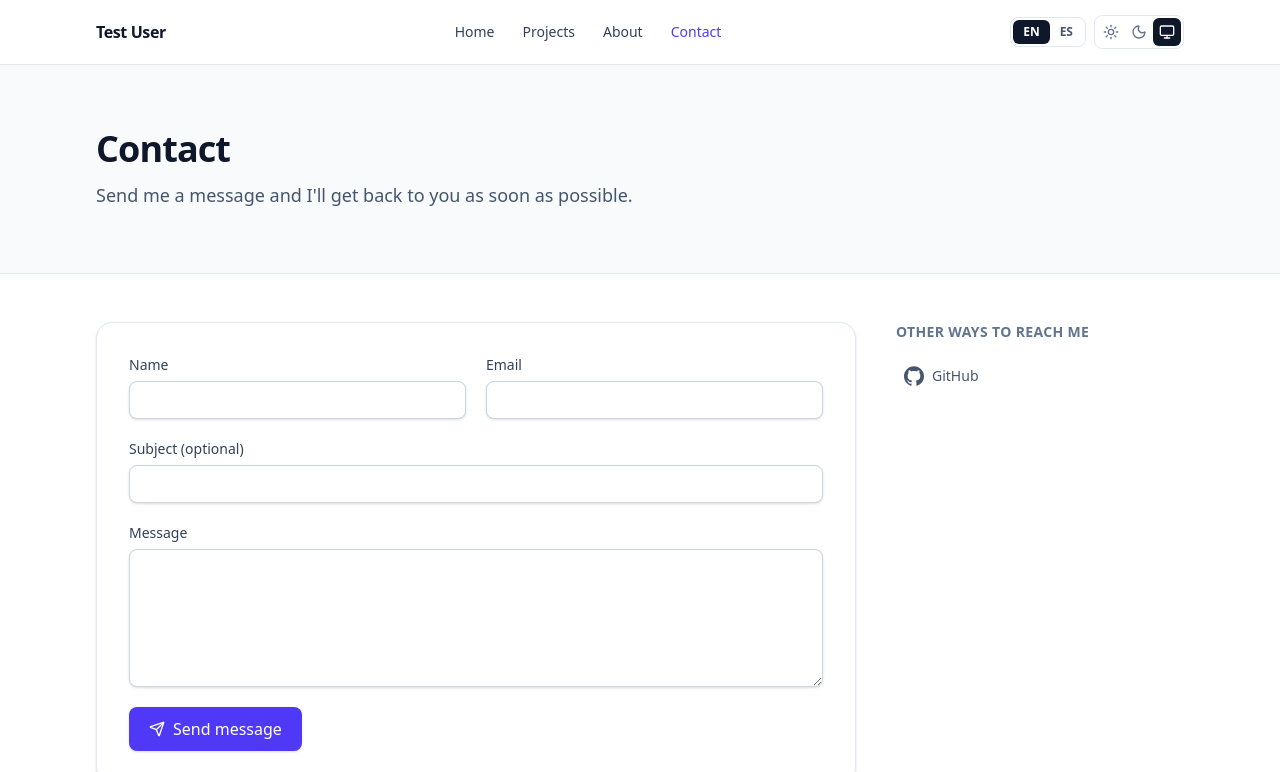
Scenario: ContactForm › explains when the rate limit is reached
Expected: the button "Send message" is shown, [129, 707, 302, 751]
Step 1. Type "Ana" into the field labelled "Name" → (298, 400), box [129, 381, 466, 419]
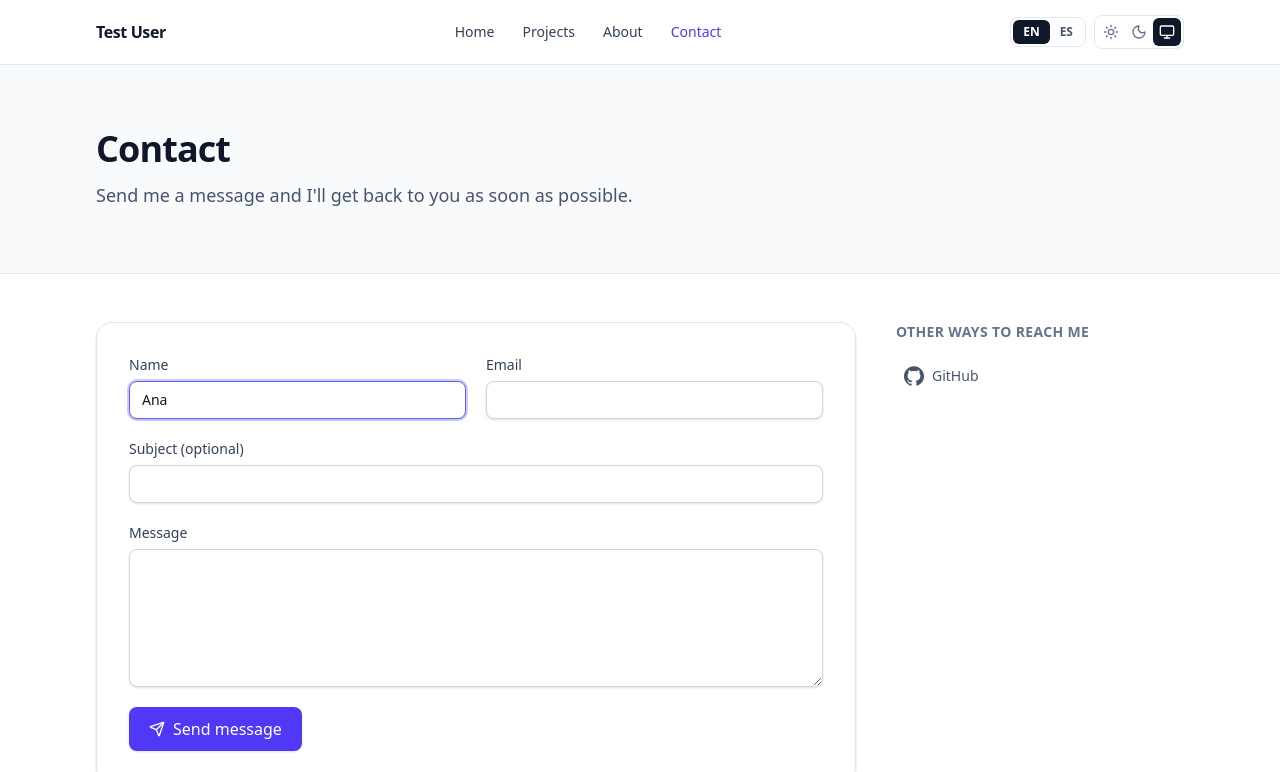
Step 2. Type "ana@example.com" into the field labelled "Email" → (654, 400), box [486, 381, 823, 419]
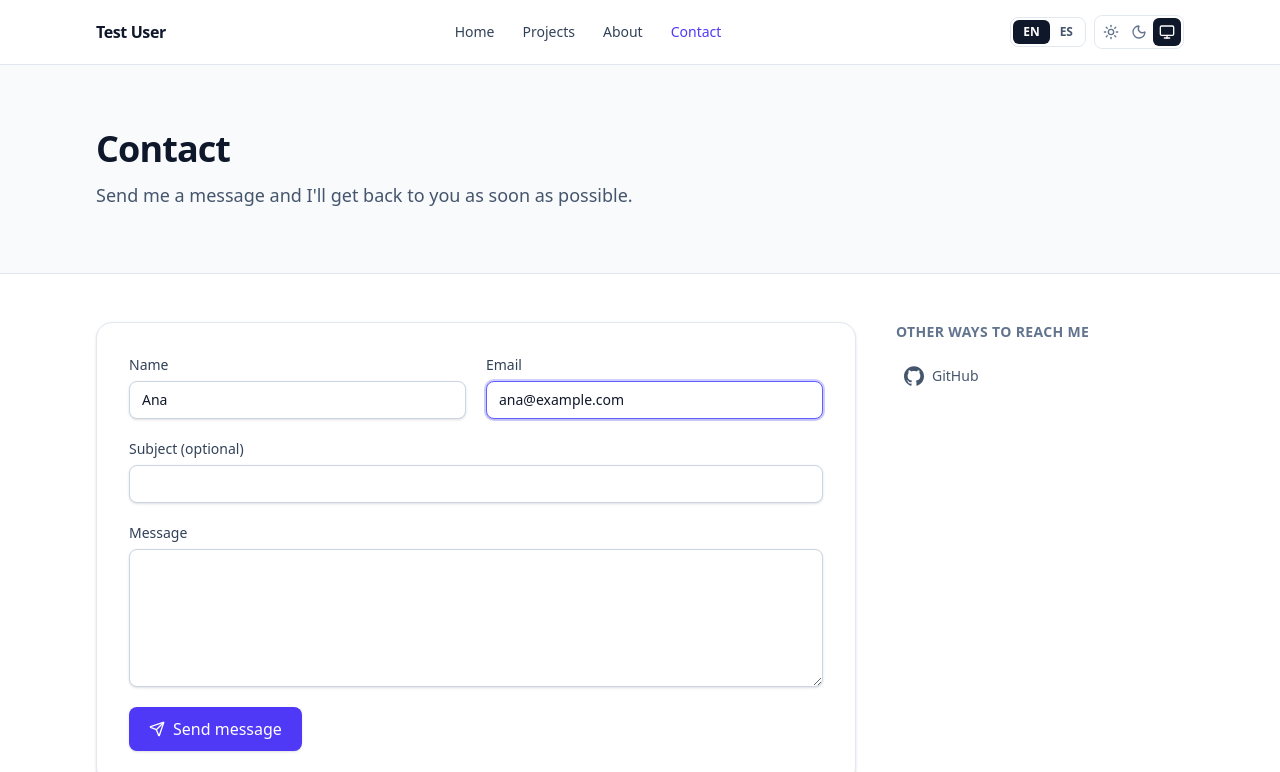
Step 3. Type "I would like to talk about a project." into the text box labelled "Message" → (476, 618), box [129, 549, 823, 687]
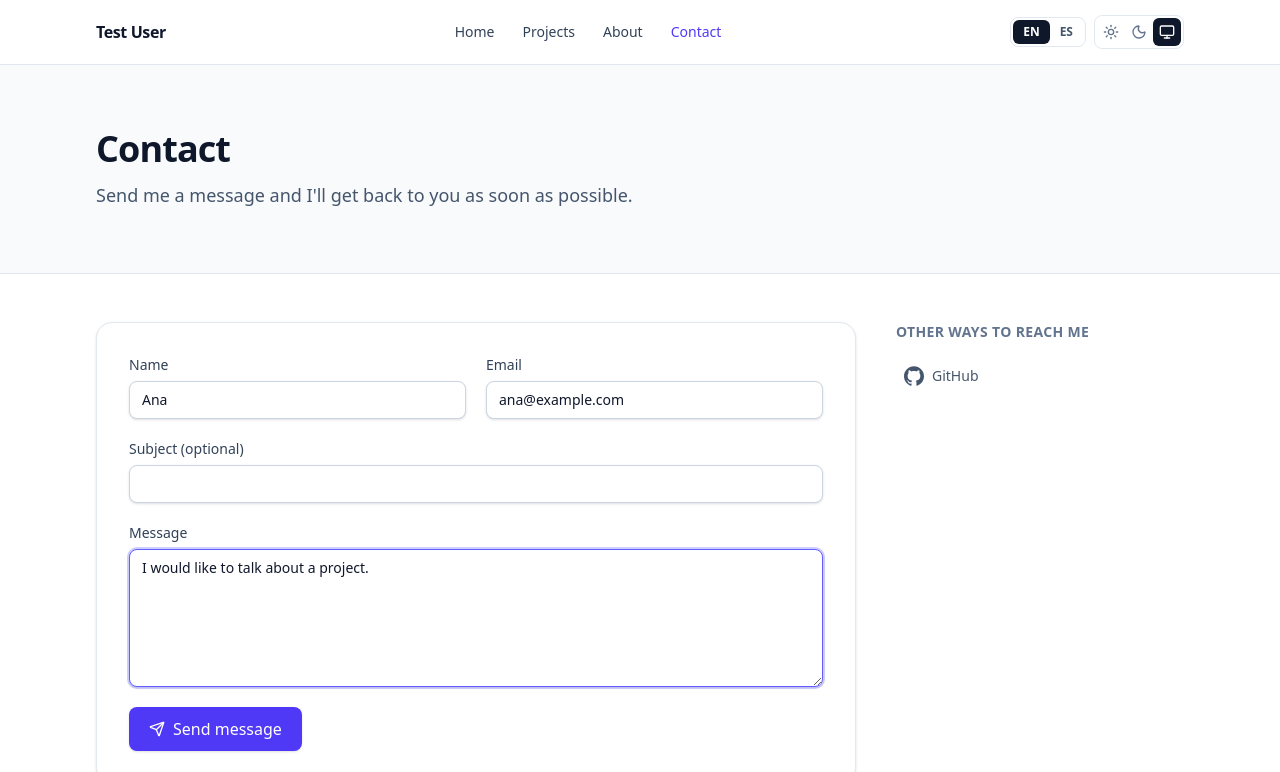
Step 4. Click the button "Send message" → (215, 729), box [129, 707, 302, 751]
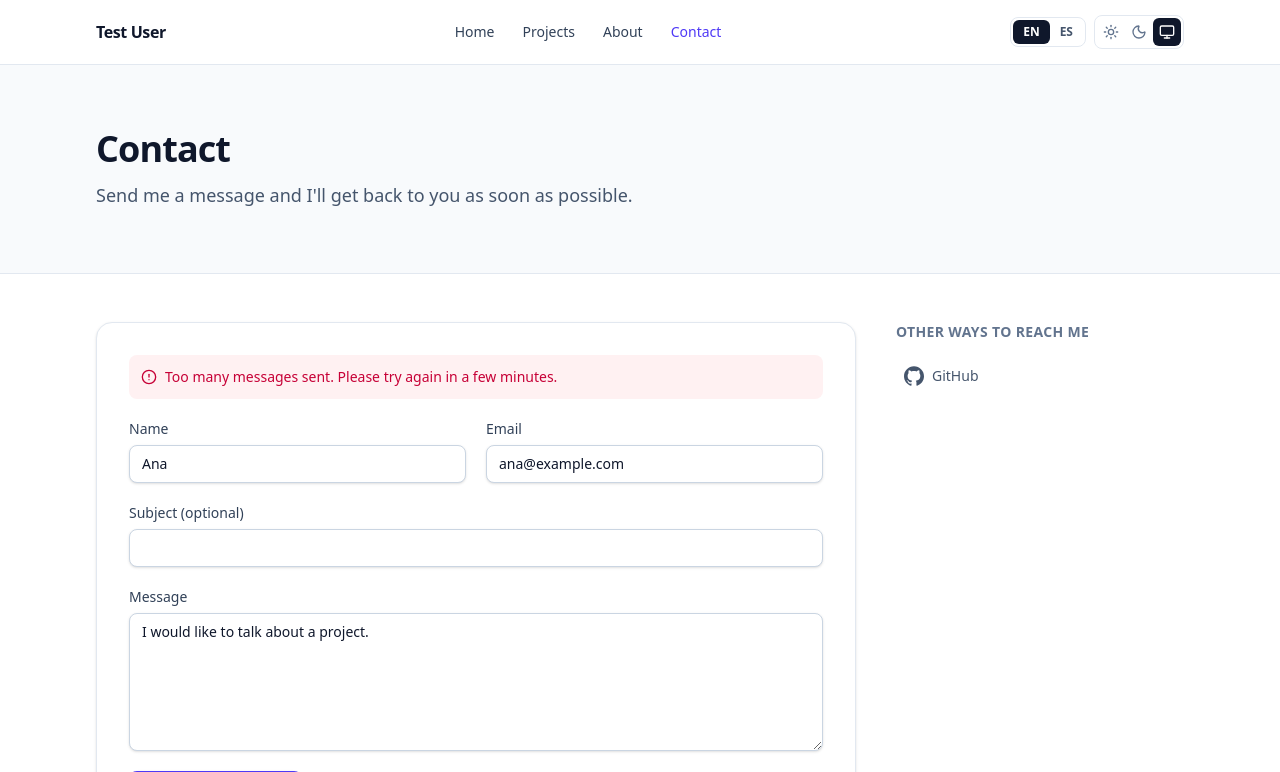
Expected: the message shows "Too many messages sent", [165, 367, 557, 386]
